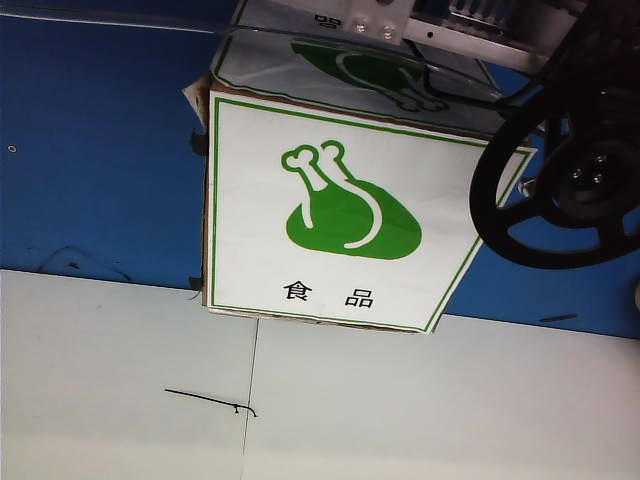Cube_food: (272, 133, 428, 322)
